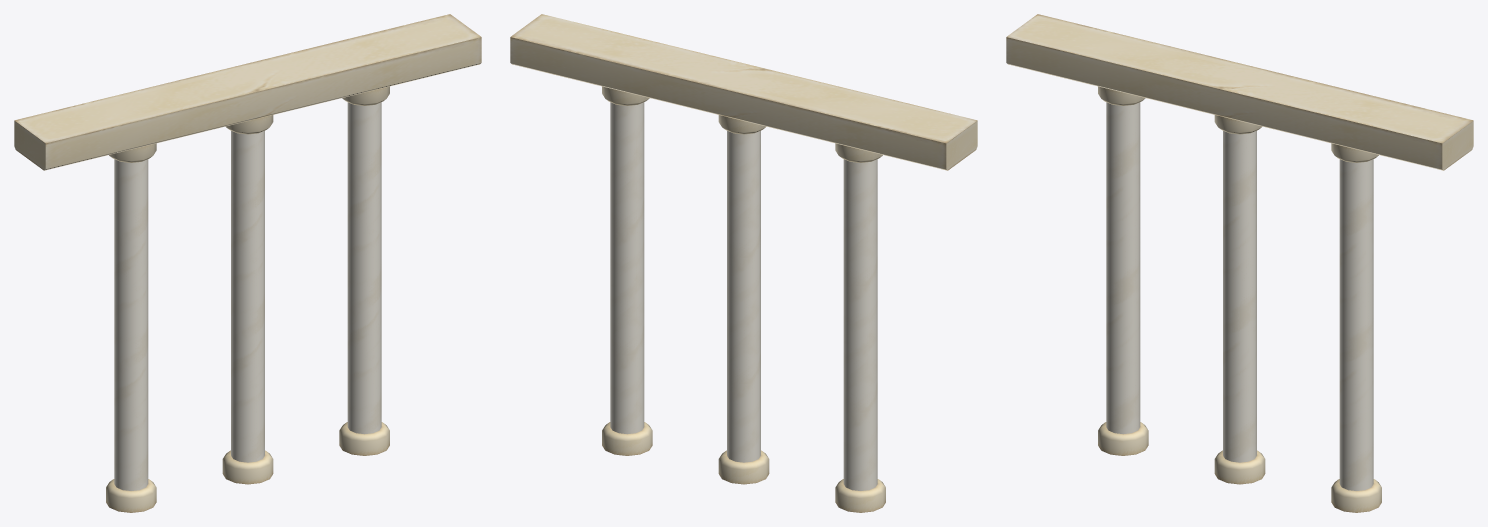
The model's file is Small_fence.fbx.
The picture shows the model from 3 angles, left to right: view 1: azimuth 30°, elevation 25°; view 2: azimuth 150°, elevation 25°; view 3: azimuth 330°, elevation 25°; orthographic projection.
Parts seen in each view (by area): view 1: Small_fence; view 2: Small_fence; view 3: Small_fence.
Boxes of the visible parts, left/top/right/bottom form: Small_fence: left=14, top=14, right=481, bottom=512; Small_fence: left=510, top=14, right=977, bottom=512; Small_fence: left=1006, top=14, right=1473, bottom=512.
Bounding box in the file's own units: 3.61 × 3.13 × 0.4518.
